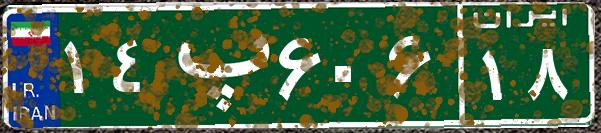0: (330, 28, 385, 110)
1: (57, 26, 110, 107), (475, 38, 525, 113)
4: (110, 28, 158, 105)
6: (385, 28, 445, 110), (273, 28, 330, 110)
8: (525, 38, 570, 115)
پ: (158, 15, 273, 115)
